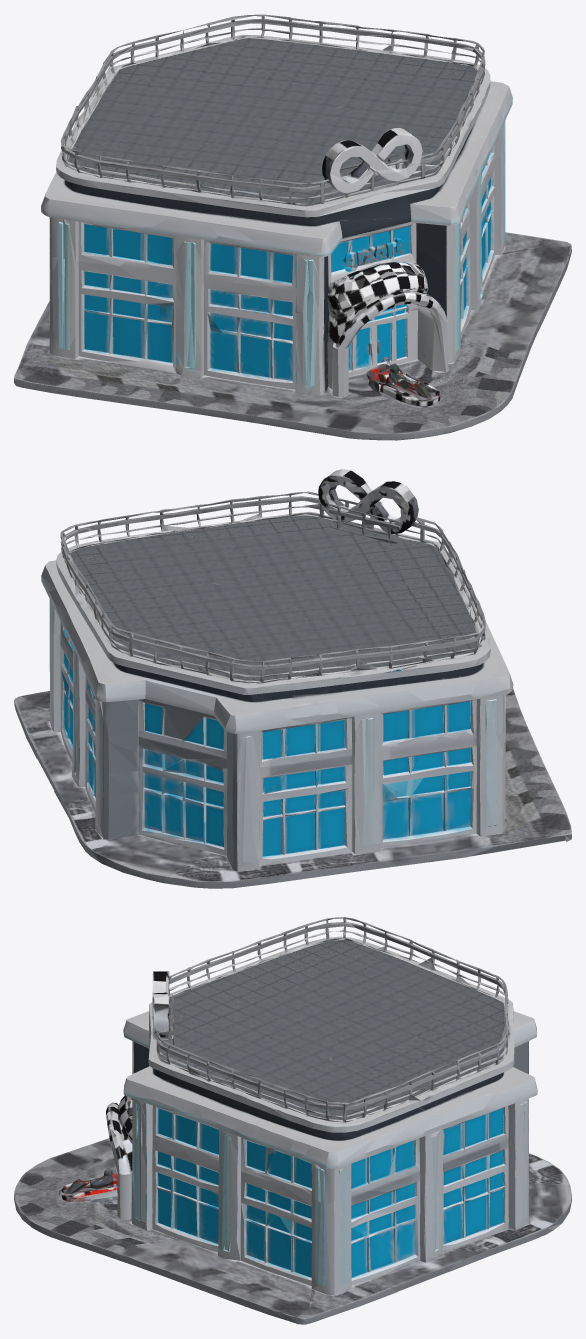
The model's file is arena-1.glb.
3 views of the same model, one above another, from view 1: azimuth 30°, elevation 25°; view 2: azimuth 150°, elevation 25°; view 3: azimuth 270°, elevation 25° (orthographic). The views are drawn at different scales.
Size of the model in its own units: 1.9 by 0.7759 by 1.8.
1 material, 1 textured.
